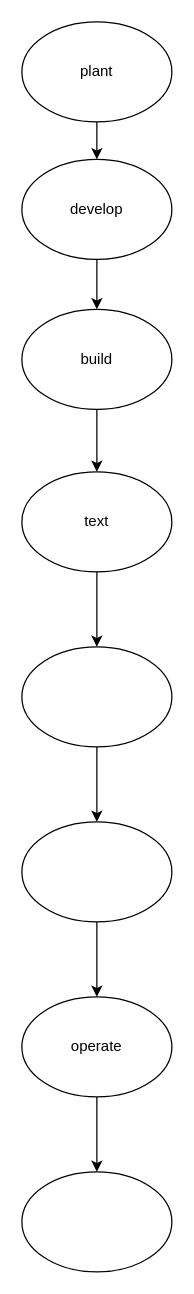
Some shapes in this 194 by 1294 pixel diagram are drawn without their labels. The centre of each missing label's shape, as x and y in pixels:
"deploy" goes at point 96,871.
"monitor" goes at point 96,1221.
"release" goes at point 96,696.
